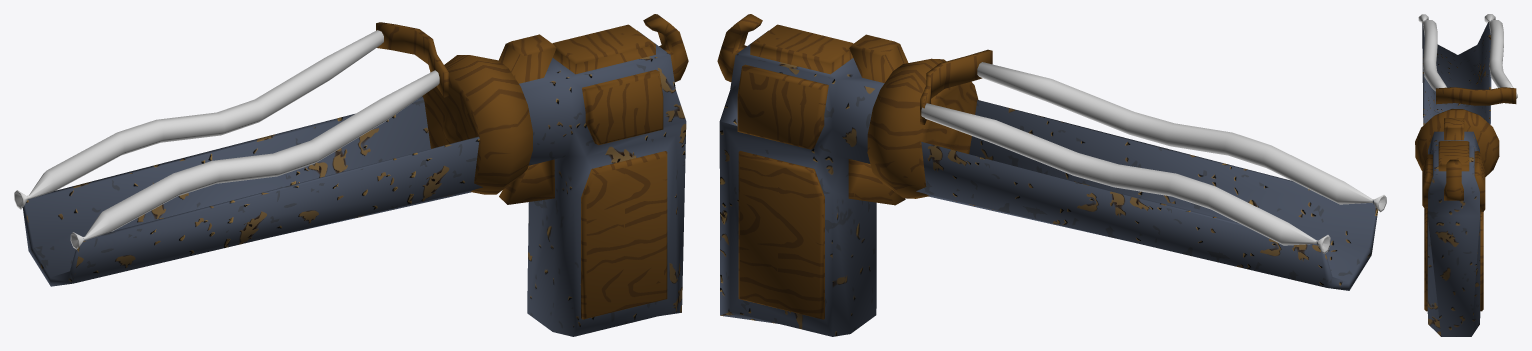
Rendered from pistola.dae.
3 renders of one model, left to right at view 1: azimuth 30°, elevation 25°; view 2: azimuth 150°, elevation 25°; view 3: azimuth 270°, elevation 25°, orthographic. The views are drawn at different scales.
Parts seen in each view (by area): view 1: PISTOLA DO BAHIA; view 2: PISTOLA DO BAHIA; view 3: PISTOLA DO BAHIA.
Boxes of the visible parts, <box> form: PISTOLA DO BAHIA: <box>14,14,688,336</box>; PISTOLA DO BAHIA: <box>717,14,1386,336</box>; PISTOLA DO BAHIA: <box>1415,14,1517,336</box>.
Bounding box in the file's own units: 3.59 × 0.8516 × 1.66.
